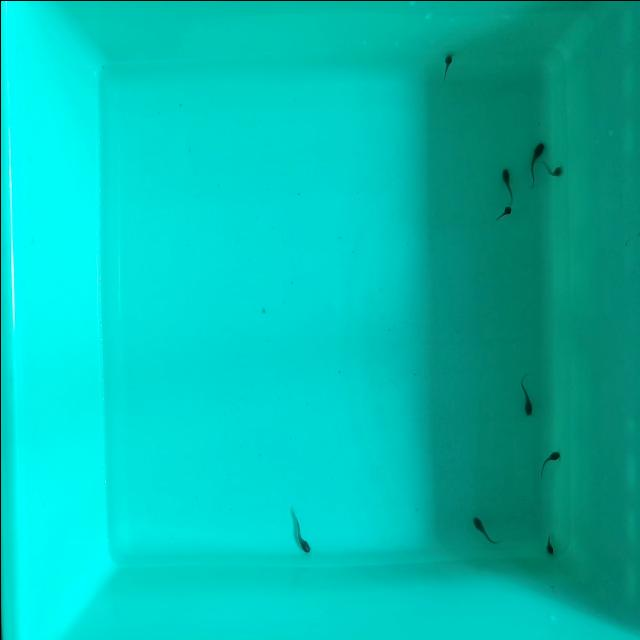lele: (469, 510, 499, 546), (522, 136, 547, 177), (292, 505, 310, 550), (540, 151, 565, 181), (519, 368, 533, 414), (499, 161, 515, 199), (493, 201, 514, 224), (441, 52, 453, 78), (539, 450, 559, 463), (543, 534, 556, 554)
